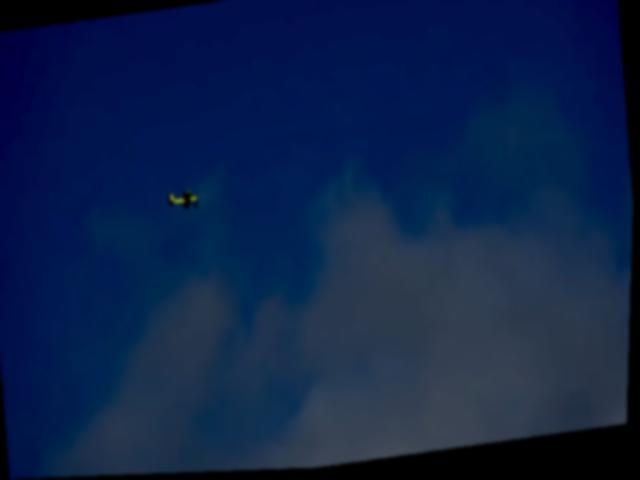plane: (170, 190, 202, 213)
